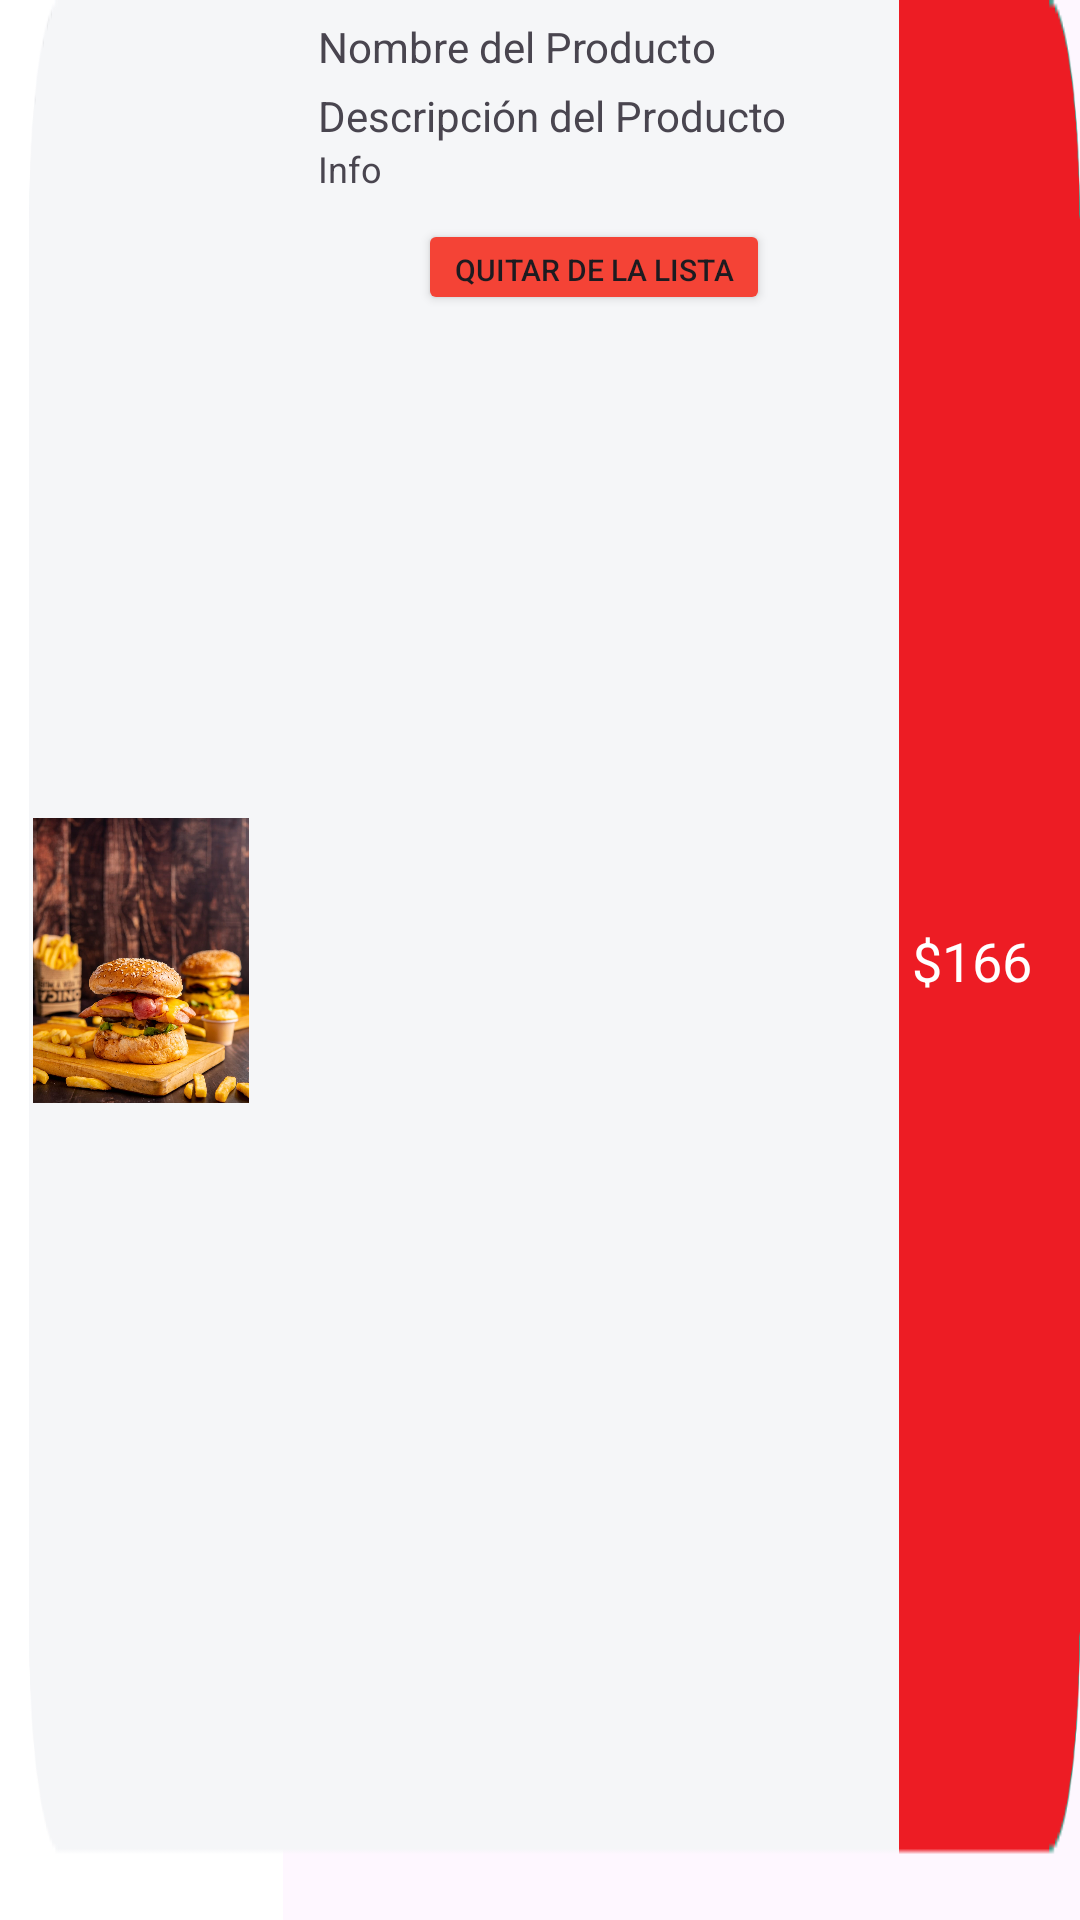

Locate icon controls on the screen. Image size 1080×1920, boxes as (x1=x1, y1=y1, x2=x2, y2=y2).
producto: (x1=33, y1=818, x2=249, y2=1103)
